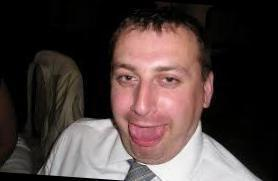Drunk: (114, 33, 198, 156)
